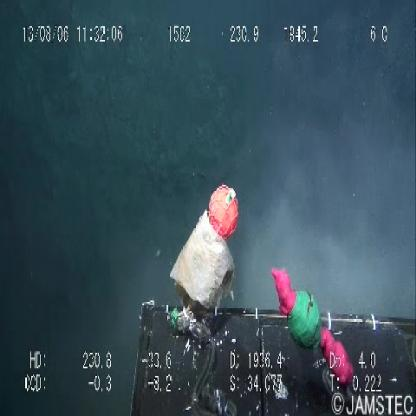Rov: (126, 282, 416, 416)
Rác: (162, 194, 250, 311)
